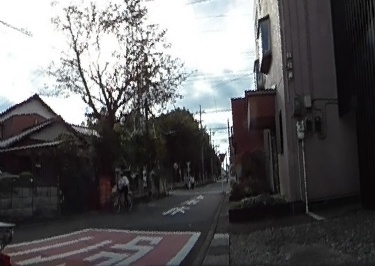person: (116, 169, 131, 204)
